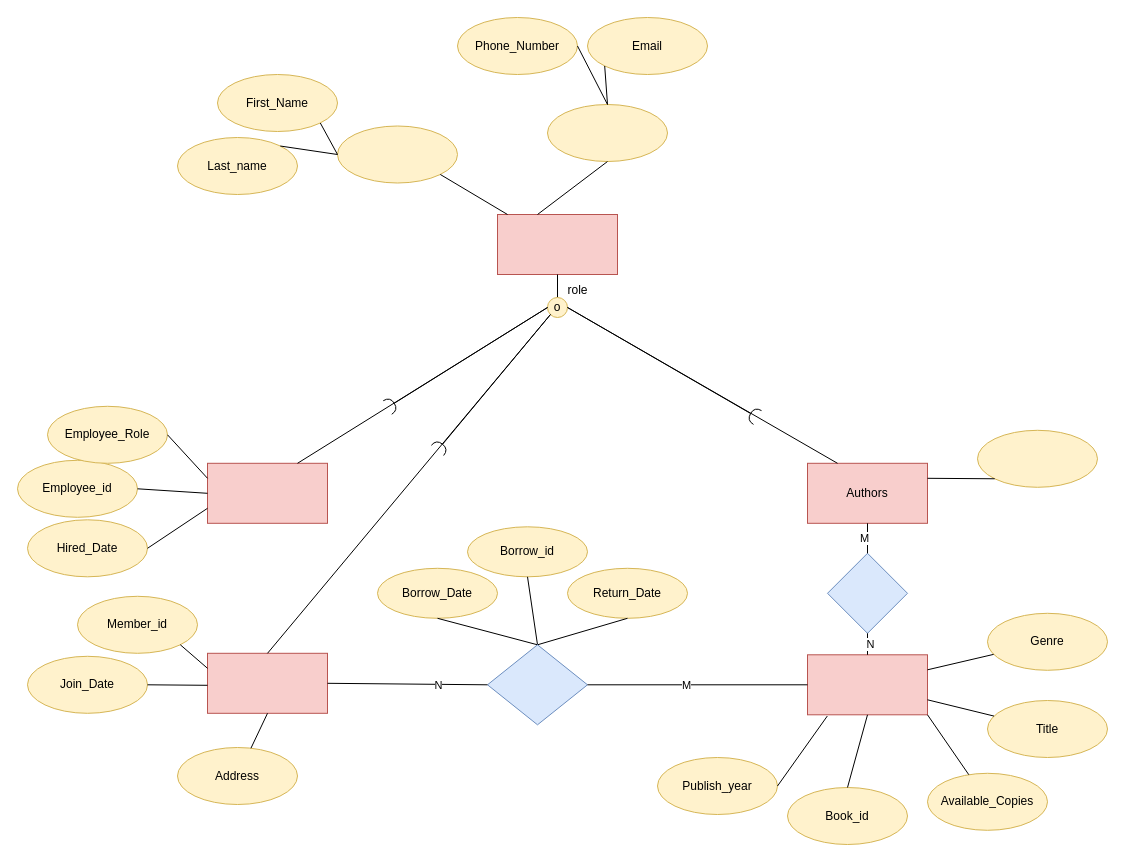
The diagram is 1125 pixels wide and 862 high, and some of its shapes have lost their labels. Here are the shapes that lost their labels. From the top down, the box of each, then its label:
(546, 104, 668, 162): Contact Info
(336, 125, 458, 183): Name
(496, 214, 618, 274): Person
(976, 429, 1098, 487): Author_id
(206, 462, 328, 523): Employee
(826, 552, 908, 633): publishes
(206, 652, 328, 713): Member
(486, 644, 588, 725): gets borrowed
(806, 654, 928, 715): Books
